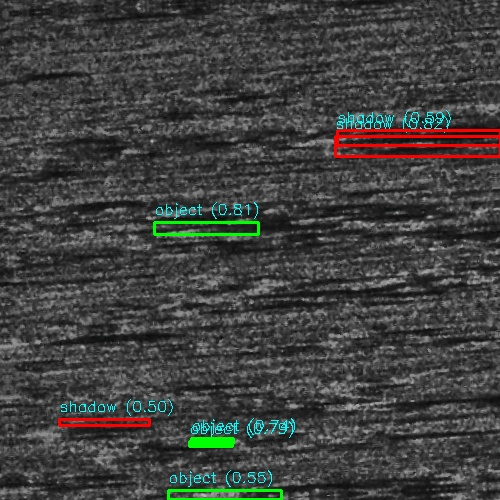rock: (171, 288, 276, 297), (317, 405, 390, 416), (139, 218, 222, 227), (0, 323, 81, 332), (426, 250, 500, 259), (296, 140, 369, 149), (209, 485, 272, 494), (51, 4, 114, 11), (317, 439, 390, 444), (111, 378, 184, 383), (486, 142, 500, 161), (0, 415, 44, 420), (311, 336, 364, 339), (490, 248, 500, 253)
shadow: (181, 218, 453, 227), (333, 140, 500, 149), (354, 405, 477, 416), (241, 485, 380, 494), (40, 323, 175, 332), (224, 288, 358, 297), (83, 4, 206, 11), (354, 439, 477, 444), (18, 415, 110, 420), (148, 378, 231, 383), (468, 250, 500, 259), (0, 263, 37, 270), (338, 336, 412, 339)
